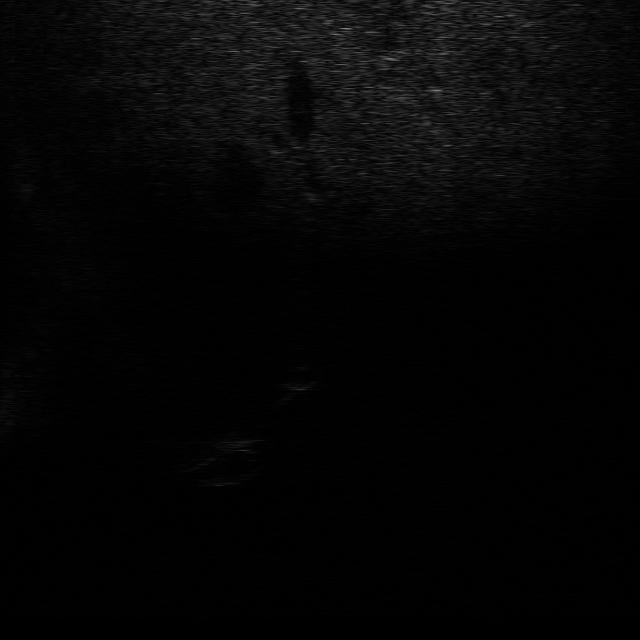ball: (172, 432, 272, 490), (269, 358, 326, 393)
